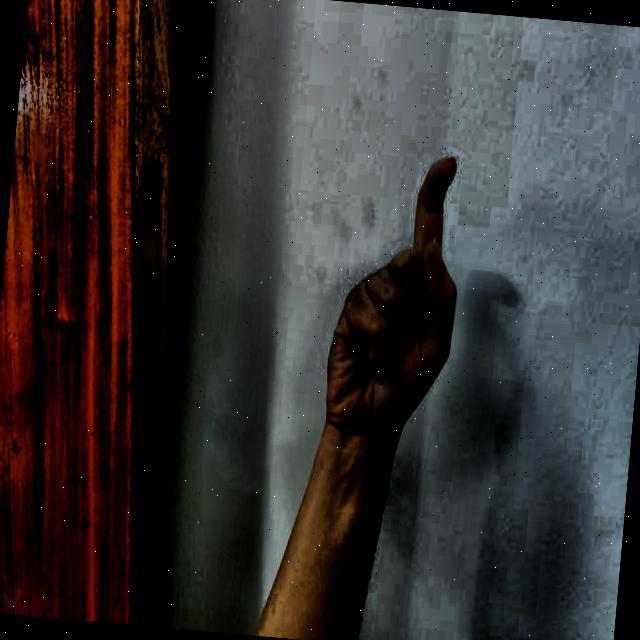E: (304, 126, 486, 450)
